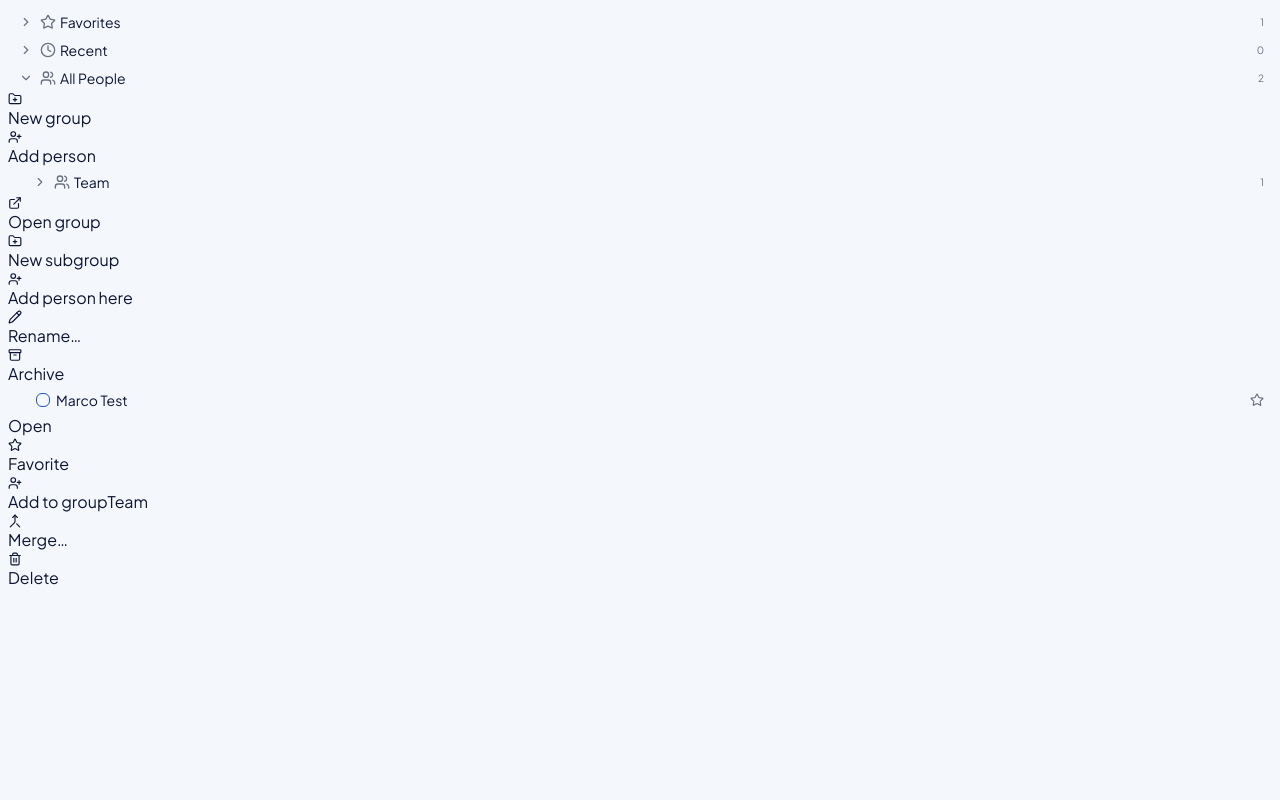
PeopleTree — favorites and infinite scroll › lists a favorite that no loaded page contains yet
Click the text "Favorites" at (90, 22), box [60,13,121,31]
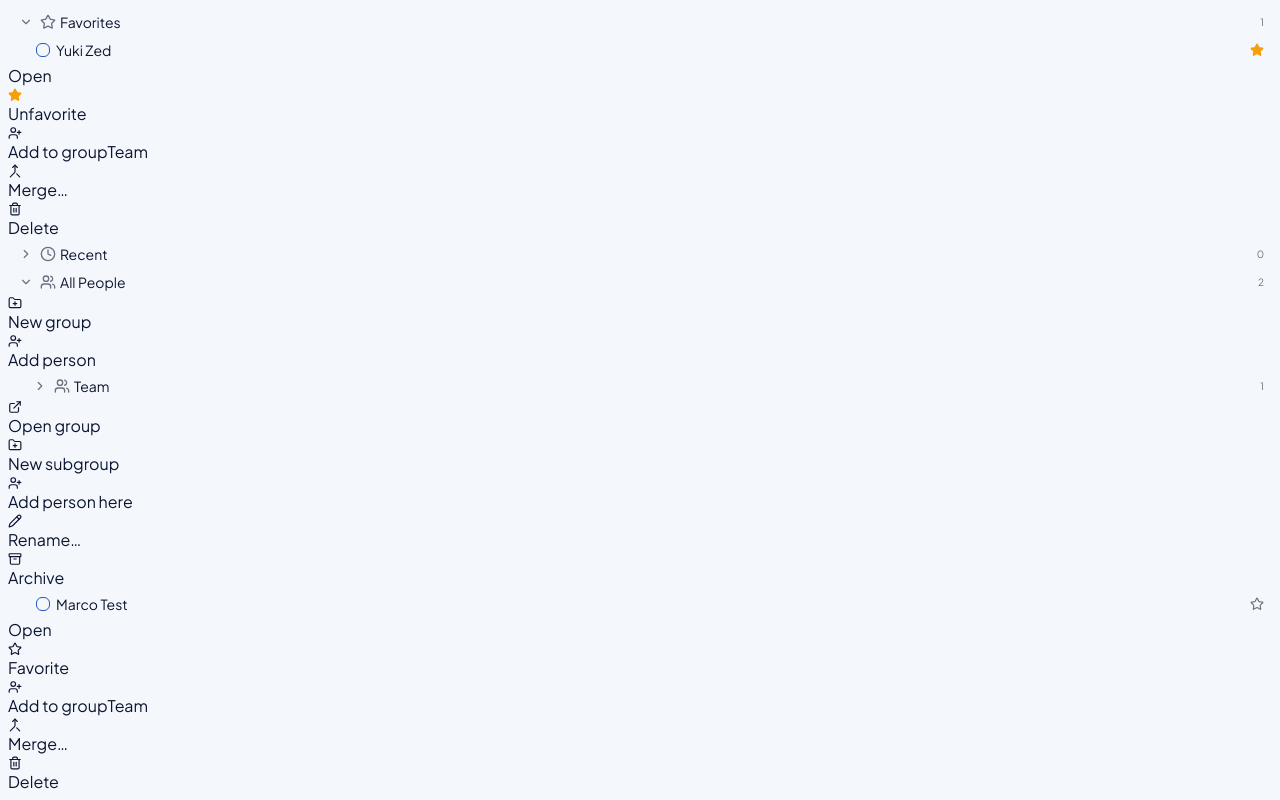
Now the text "Yuki Zed" is shown once, box [56,41,111,59]
